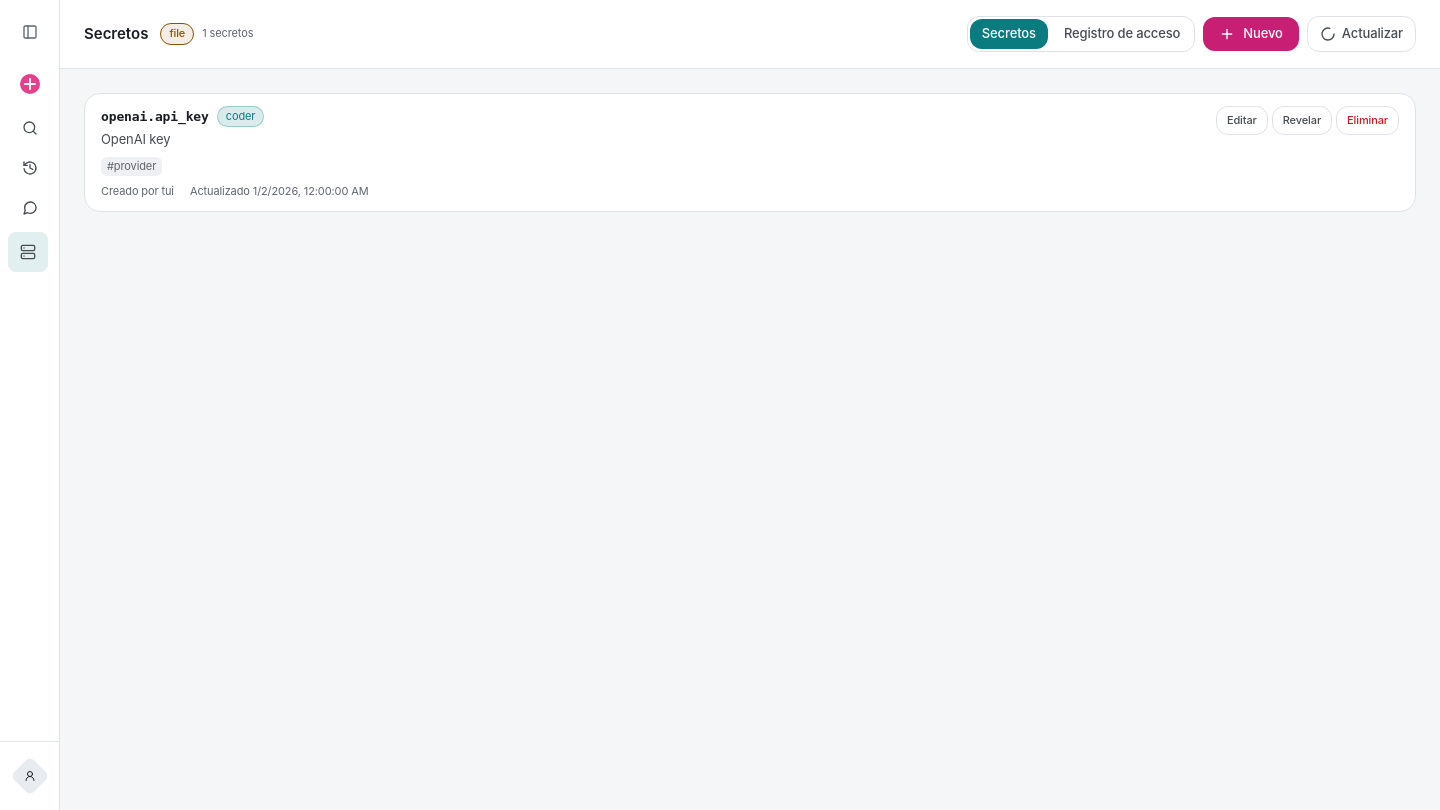
Test: SecretsPage — editing a card › the Edit button opens the form prefilled from the card
Click the button "Editar". click: (1242, 120)
box: [1216, 106, 1268, 135]
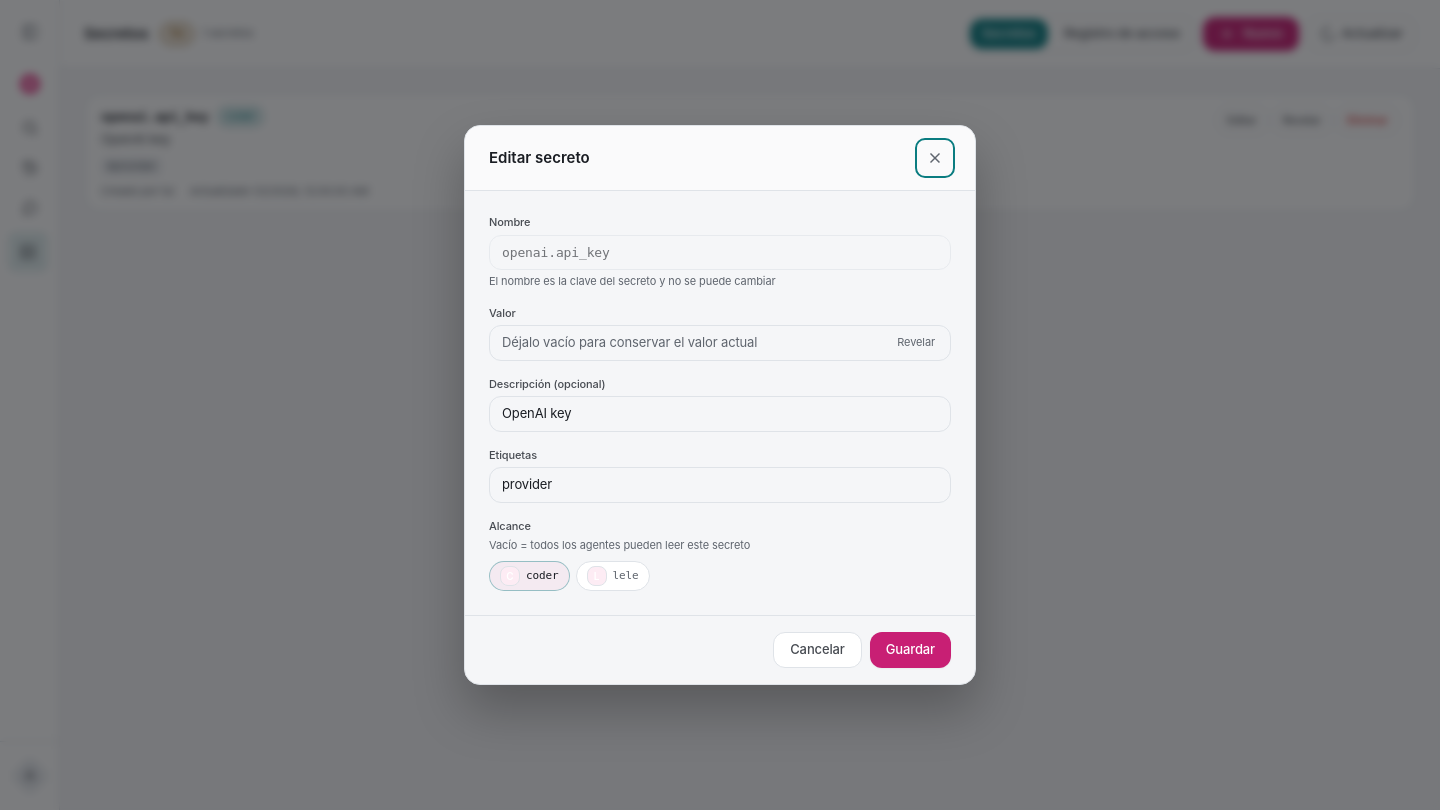
Check: the text "Editar secreto" is shown, box [489, 147, 590, 170]
Check: the field with id "secret-name" holds "openai.api_key", box [489, 234, 951, 270]
Check: the field with id "secret-name" is disabled, box [489, 234, 951, 270]
